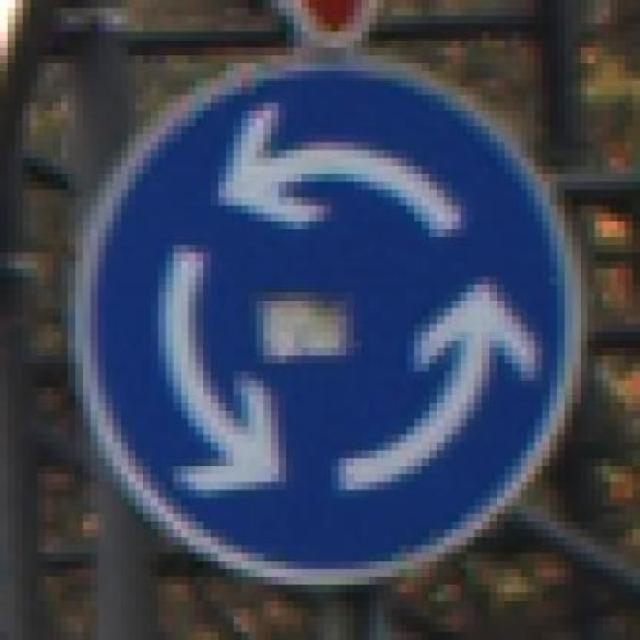Round-About: (52, 39, 603, 601)
